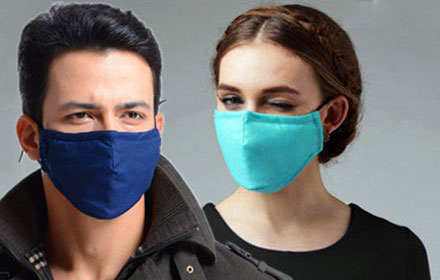face_mask: (41, 54, 165, 218), (213, 39, 324, 191)
